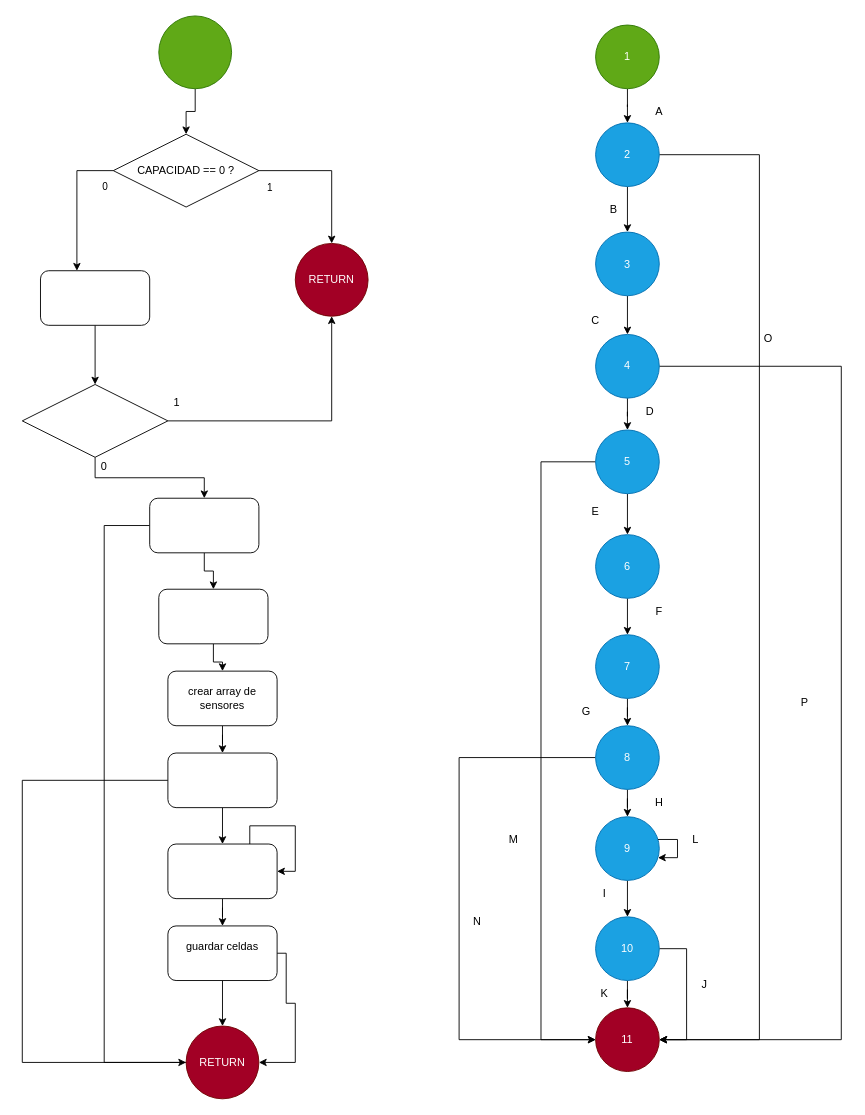
This 865x1115 diagram has some shape labels left out. The centre of each missing label's shape, as x and y in pixels:
"calcular faltantes" goes at point (213, 616).
"Celdas >= Capacidad ?" goes at point (94, 420).
"guardar sensores en DB" goes at point (222, 780).
"iterar creando celdas de los sensores" goes at point (222, 871).
"obtener tipo de celdas" goes at point (204, 525).
"realizar conteo de celdas" goes at point (95, 297).
"SE ASIGNA UN MAXIMO" goes at point (195, 52).
